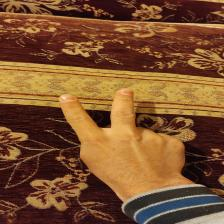two: (44, 85, 193, 193)
